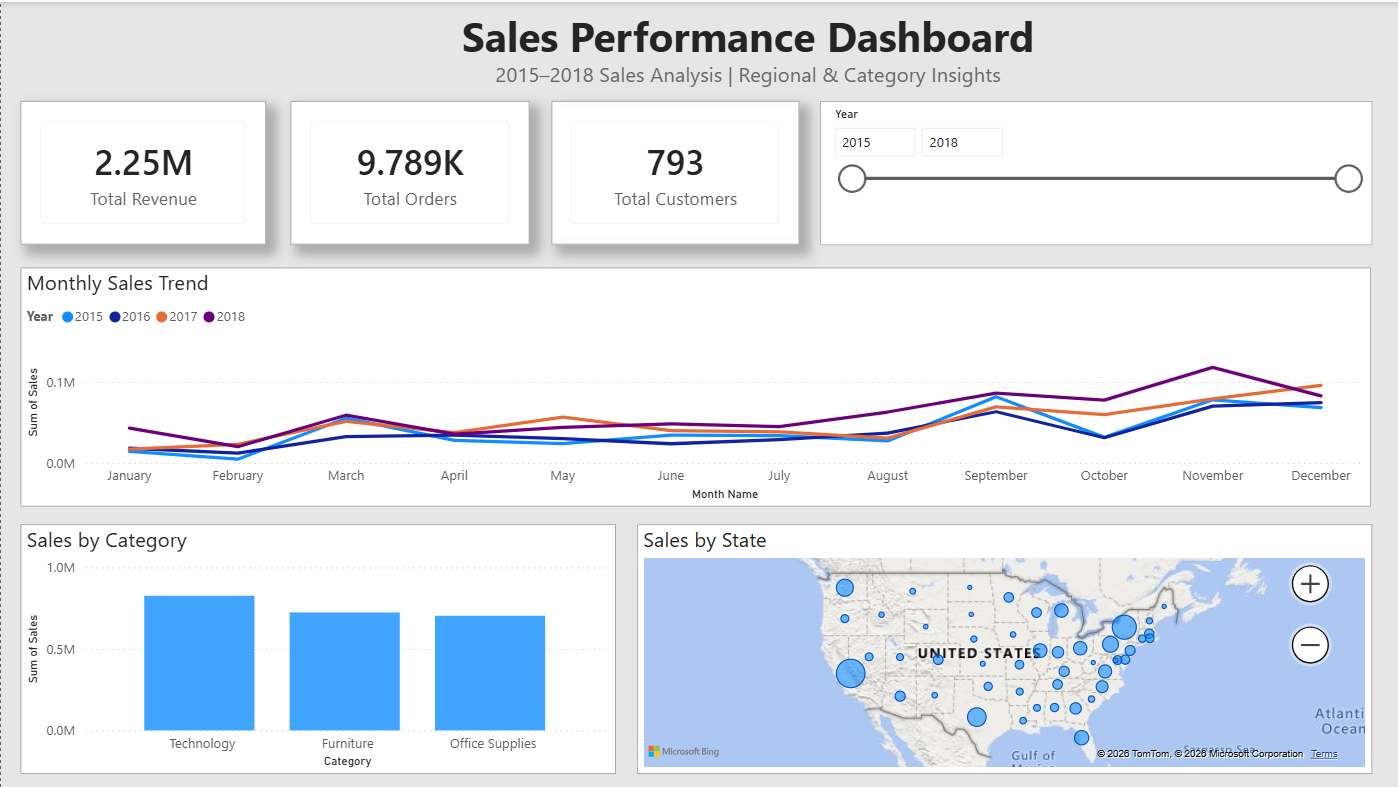

The dashboard page shown, as its layout file describes it:
{"tool":"powerbi","page":{"name":"Page 1","canvas":[1280,720],"ordinal":0},"visuals":[{"type":"cardVisual","fields":{"Data":["Sum(cleaned_sales_data.Sales)"]},"box":[18.2,91.1,224.8,131.6],"z":0},{"type":"cardVisual","fields":{"Data":["CountNonNull(cleaned_sales_data.Order ID)"]},"box":[265.3,91.1,218.7,131.6],"z":1000},{"type":"cardVisual","fields":{"Data":["Count(cleaned_sales_data.Customer ID)"]},"box":[504.3,91.1,226.8,131.6],"z":2000},{"type":"lineChart","title":"Monthly Sales Trend","fields":{"Category":["cleaned_sales_data.Month Name"],"Series":["cleaned_sales_data.Year"],"Y":["Sum(cleaned_sales_data.Sales)"]},"box":[18.2,243,1235.4,218.7],"z":3000},{"type":"clusteredColumnChart","title":"Sales by Category","fields":{"Category":["cleaned_sales_data.Category"],"Y":["Sum(cleaned_sales_data.Sales)"]},"box":[18.2,478,544.8,228.9],"z":4000},{"type":"map","title":"Sales by State","fields":{"Category":["cleaned_sales_data.State"],"Size":["Sum(cleaned_sales_data.Sales)"]},"box":[581.3,478,672.4,228.9],"z":5000},{"type":"textbox","box":[374.7,0,617.7,91.1],"z":6000},{"type":"slicer","fields":{"Values":["cleaned_sales_data.Year"]},"box":[749.4,91.1,504.3,131.6],"z":7000},{"type":"textbox","box":[212.7,48.6,941.8,83],"z":7001}]}

Visuals, with their boxes in screenshot pixels (x1, y1, x2, y2), scaled from the page's 1280x720 canvas onto the 1398x787 screenshot:
cardVisual - Sum(cleaned_sales_data.Sales): <bbox>20, 100, 265, 243</bbox>
cardVisual - CountNonNull(cleaned_sales_data.Order ID): <bbox>290, 100, 529, 243</bbox>
cardVisual - Count(cleaned_sales_data.Customer ID): <bbox>551, 100, 798, 243</bbox>
"Monthly Sales Trend" lineChart: <bbox>20, 266, 1369, 505</bbox>
"Sales by Category" clusteredColumnChart: <bbox>20, 522, 615, 773</bbox>
"Sales by State" map: <bbox>635, 522, 1369, 773</bbox>
textbox: <bbox>409, 0, 1084, 100</bbox>
slicer - cleaned_sales_data.Year: <bbox>818, 100, 1369, 243</bbox>
textbox: <bbox>232, 53, 1261, 144</bbox>
